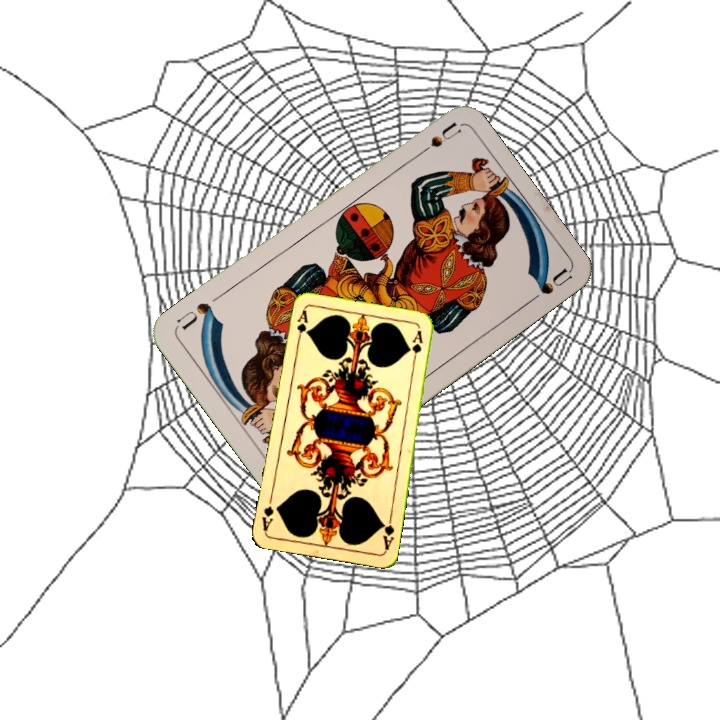GA: (378, 512, 397, 553), (293, 306, 310, 346)
SU: (409, 118, 463, 162)
